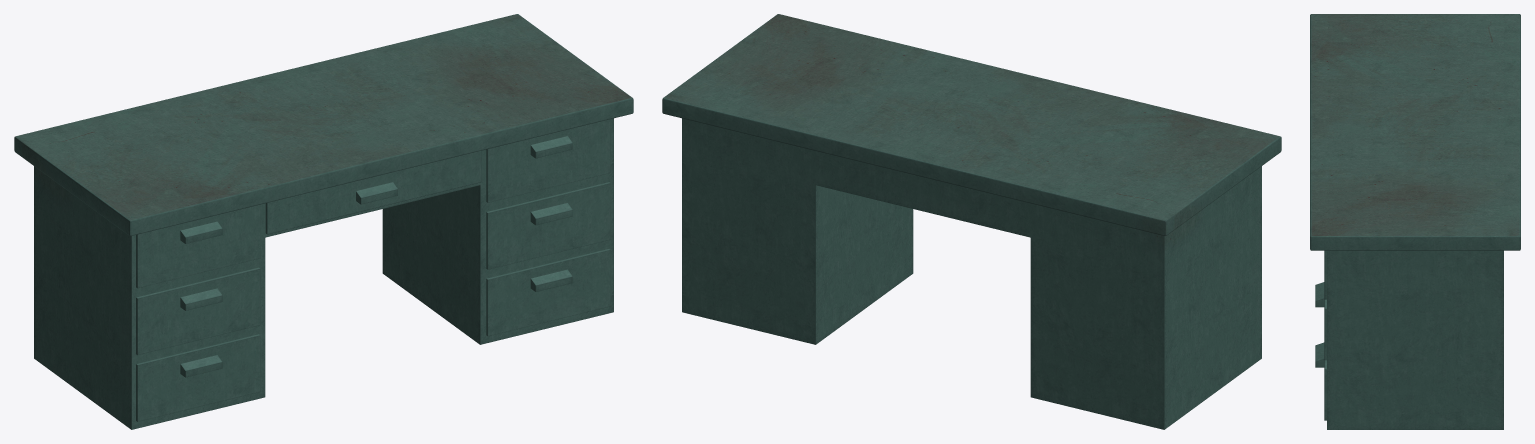
Rendered from Old  desk.fbx.
3 views of the same model, side by side, from view 1: azimuth 30°, elevation 25°; view 2: azimuth 150°, elevation 25°; view 3: azimuth 270°, elevation 25° (orthographic). The views are drawn at different scales.
Parts seen in each view (by area): view 1: defaultMaterial; view 2: defaultMaterial; view 3: defaultMaterial.
Part boxes in pixels (bbox=[...]): defaultMaterial: bbox=[14, 14, 633, 429]; defaultMaterial: bbox=[662, 14, 1281, 429]; defaultMaterial: bbox=[1310, 14, 1520, 429].
Bounding box in the file's own units: 8860 × 3666 × 3536.
Materials: 1 (1 with a texture image).
